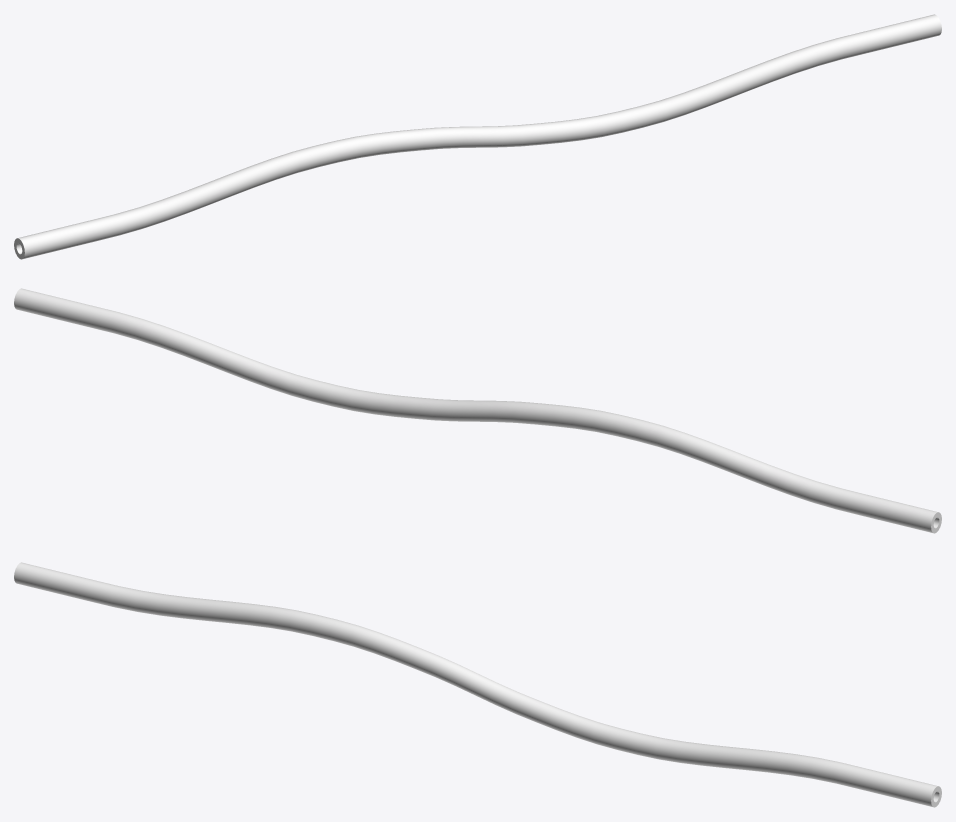
The picture shows the model from 3 angles, top to bottom: view 1: azimuth 30°, elevation 25°; view 2: azimuth 150°, elevation 25°; view 3: azimuth 330°, elevation 25°; orthographic projection.
Visible parts, largest first — view 1: SB_Translucent-03; view 2: SB_Translucent-03; view 3: SB_Translucent-03.
Boxes of the visible parts, x1,y1,x2,y2 form: SB_Translucent-03: (14, 14, 941, 259); SB_Translucent-03: (14, 288, 941, 533); SB_Translucent-03: (14, 562, 941, 807).
Size of the model in its own units: 0.3074 by 0.0191 by 0.00635.
Materials: 1 (1 with a texture image).
